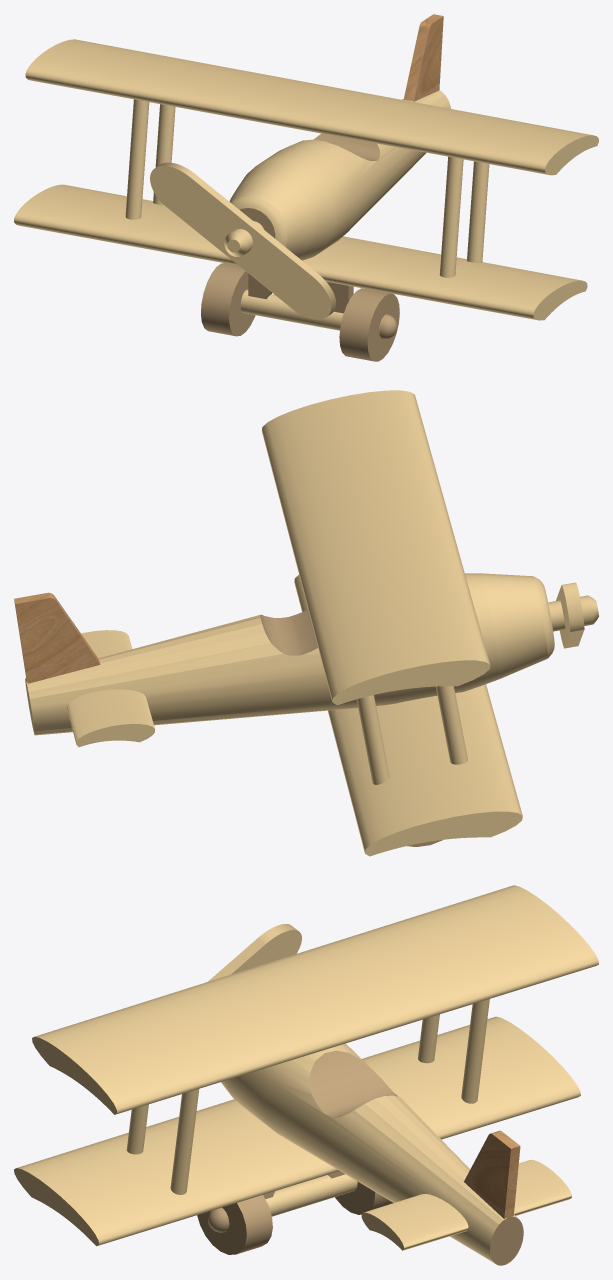
Rendered from MSH_Avioncito.FBX.
The picture shows the model from 3 angles, top to bottom: view 1: azimuth 30°, elevation 25°; view 2: azimuth 150°, elevation 25°; view 3: azimuth 270°, elevation 25°; orthographic projection. The views are drawn at different scales.
Parts seen in each view (by area): view 1: MSH_Avioncito; view 2: MSH_Avioncito; view 3: MSH_Avioncito.
Boxes of the visible parts, bbox=[...] form: MSH_Avioncito: bbox=[14, 14, 598, 361]; MSH_Avioncito: bbox=[14, 390, 598, 856]; MSH_Avioncito: bbox=[14, 885, 598, 1265].
Bounding box in the file's own units: 32.41 × 16.53 × 34.12.
